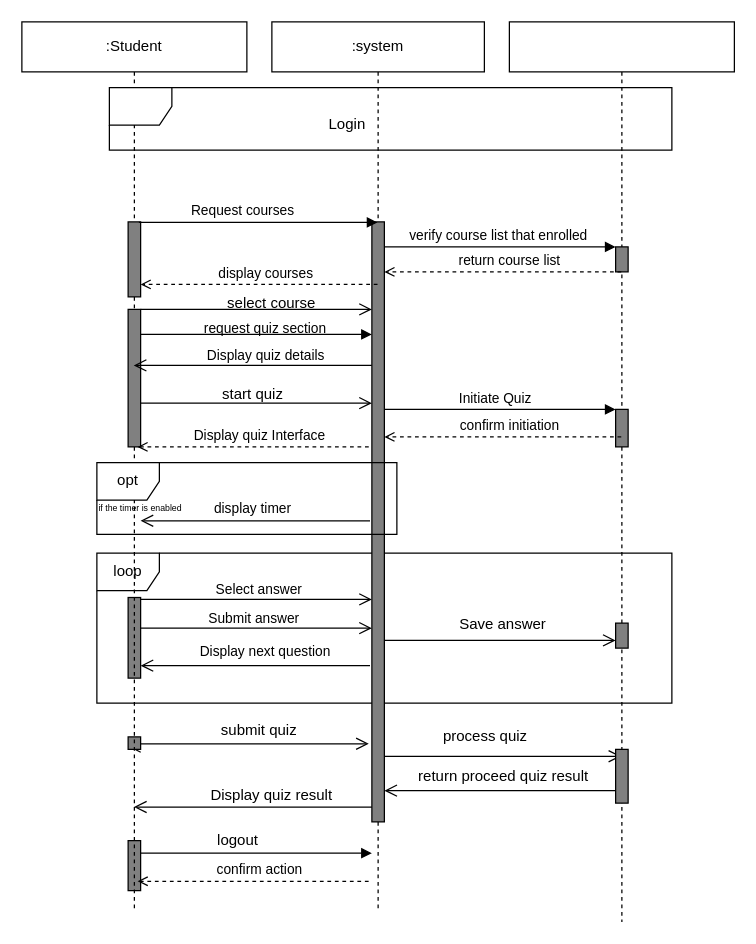
Some shapes in this 756 by 944 pixel diagram are drawn without their labels. Here are the shapes that lost their labels. From the top down, the centre of each, then its label:
[390,118]: Ref
[621,471]: :Database
